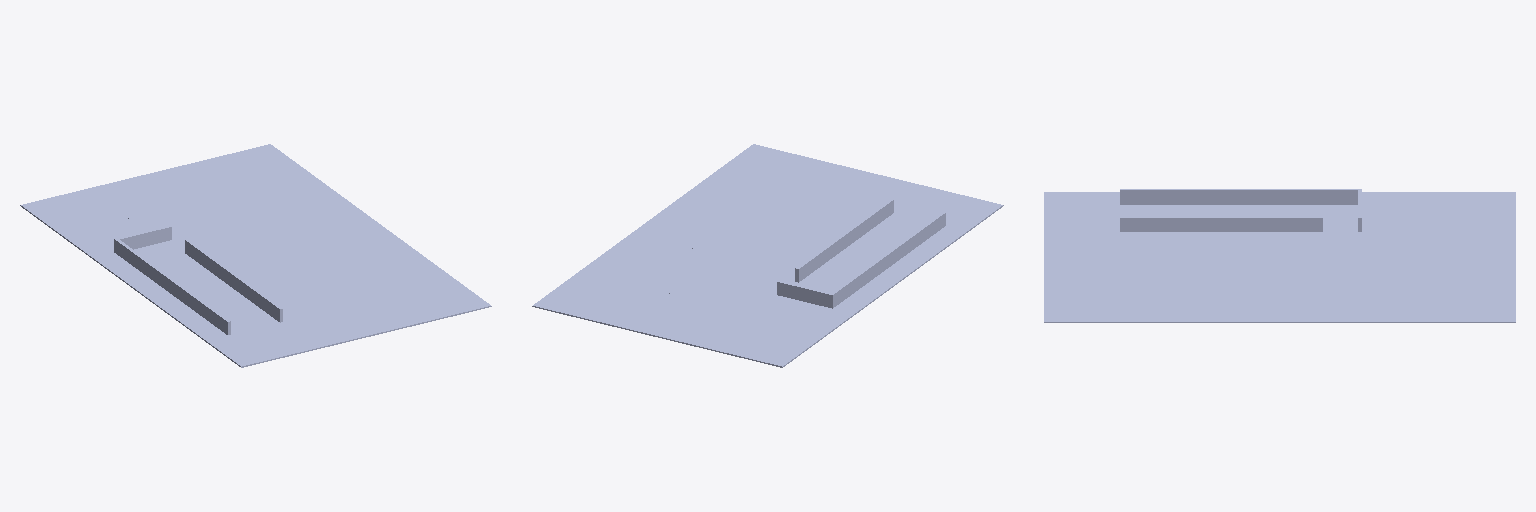
The robot description file, URDF, robot "arena":
<?xml version="1.0" encoding="utf-8"?>
<!-- This URDF was automatically created by SolidWorks to URDF Exporter! Originally created by [author] ([email redacted]) 
     Commit Version: 1.6.0-4-g7f85cfe  Build Version: 1.6.7995.38578
     For more information, please see http://wiki.ros.org/sw_urdf_exporter -->
<robot
  name="arena">
  <link
    name="base_link">
    <inertial>
      <origin
        xyz="1.50997733907506 2.34152986525277 3.41636624188014"
        rpy="0 0 0" />
      <mass
        value="235.134620576634" />
      <inertia
        ixx="346.081097388675"
        ixy="0.00665706514248859"
        ixz="-0.224599976822035"
        iyy="489.533528991253"
        iyz="0.119469758422949"
        izz="143.61190670002" />
    </inertial>
    <visual>
      <origin
        xyz="0 0 0"
        rpy="0 0 0" />
      <geometry>
        <mesh
          filename="package://slrc_robot/arena/meshes/base_link.STL" />
      </geometry>
      <material
        name="">
        <color
          rgba="0.792156862745098 0.819607843137255 0.933333333333333 1" />
      </material>
    </visual>
    <collision>
      <origin
        xyz="0 0 0"
        rpy="0 0 0" />
      <geometry>
        <mesh
          filename="package://slrc_robot/arena/meshes/base_link.STL" />
      </geometry>
    </collision>
  </link>
</robot>

--- Facts derived from the render (not from the file) ---
3 views of the same robot in one strip: view 1: azimuth 30°, elevation 25°; view 2: azimuth 150°, elevation 25°; view 3: azimuth 270°, elevation 25° (orthographic).
Robot: arena — 1 links, 0 joints (none); root link base_link; default pose: all joints at 0.
Links seen in each view (by area): view 1: base_link; view 2: base_link; view 3: base_link.
Boxes of the visible links, x1,y1,x2,y2 form: base_link: (20,144,491,367); base_link: (532,144,1003,367); base_link: (1044,189,1515,322).
Size in the robot's own frame: 2.92 by 4.47 by 0.165 metres.
Meshes: 1 distinct files referenced, 1 mesh visuals loaded (1 binary STL).